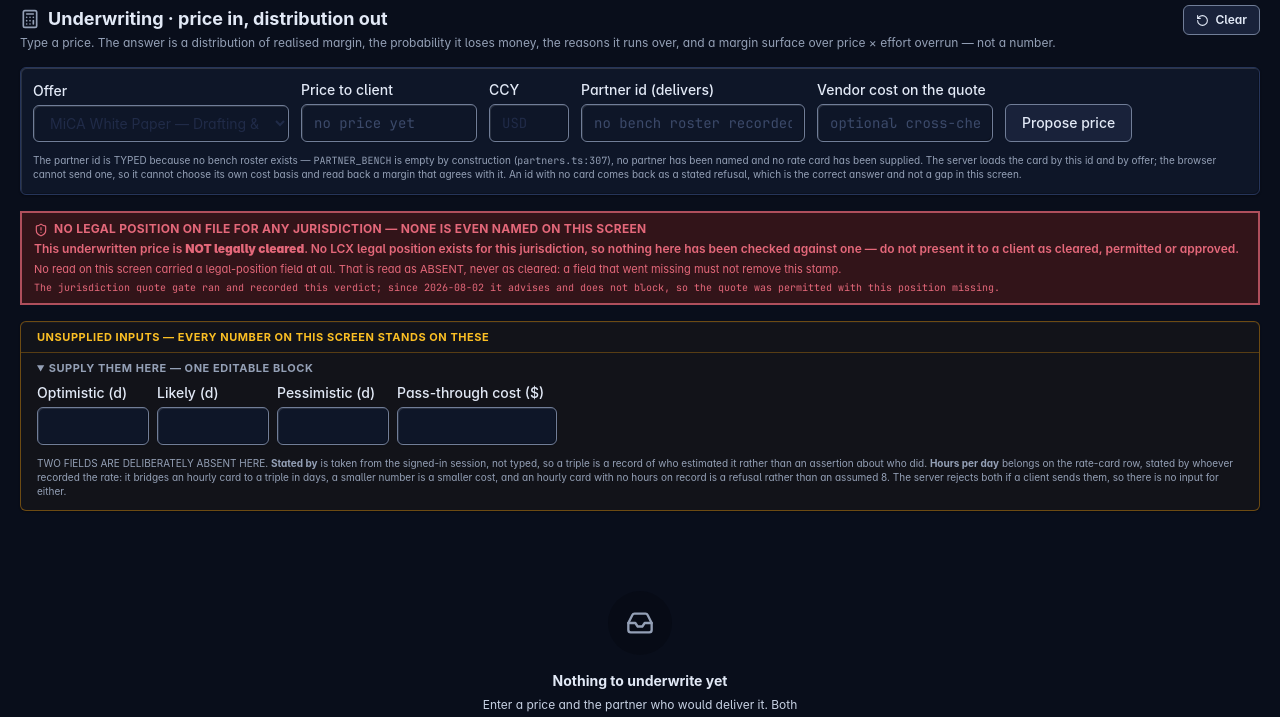
Test: the request body › sends none of the fields the route rejects as server facts
Type "10000" into the field with test id "price-input". click: coordinates (389, 123)
box: [301,104,477,142]
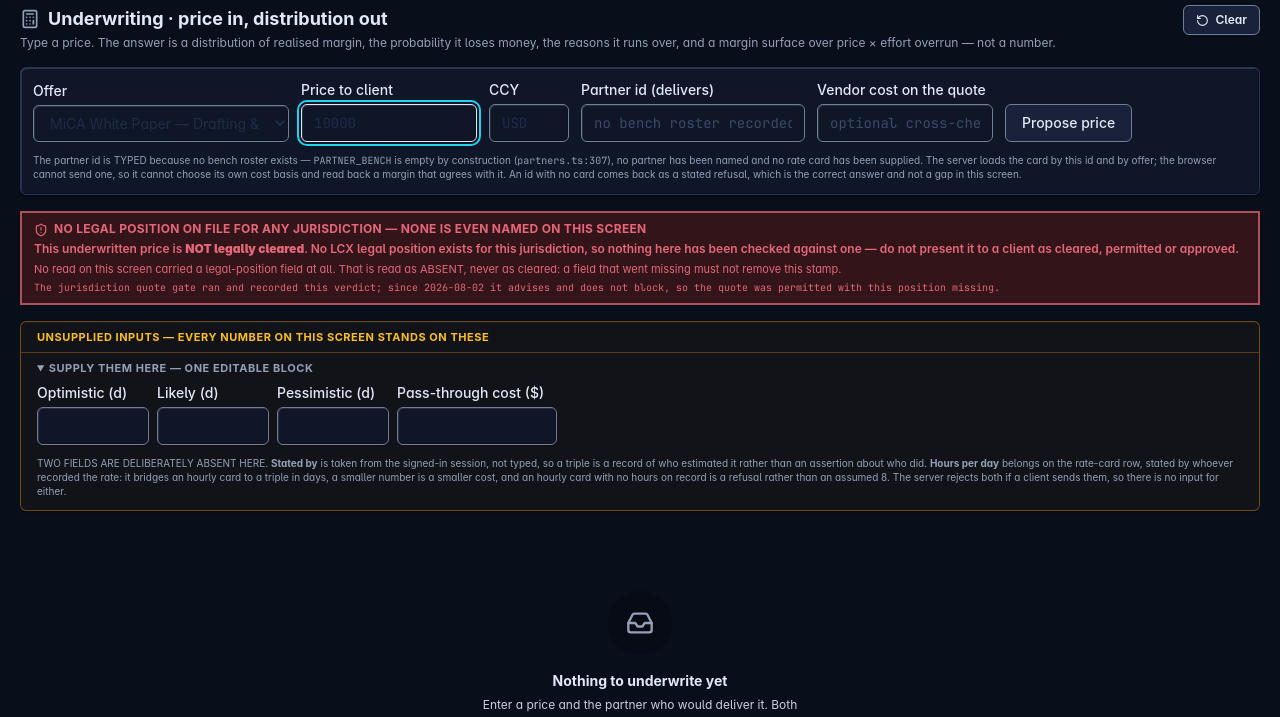
Type "partner-1" into the field with test id "partner-input". click: coordinates (693, 123)
box: [581,104,805,142]
(page scrolled)
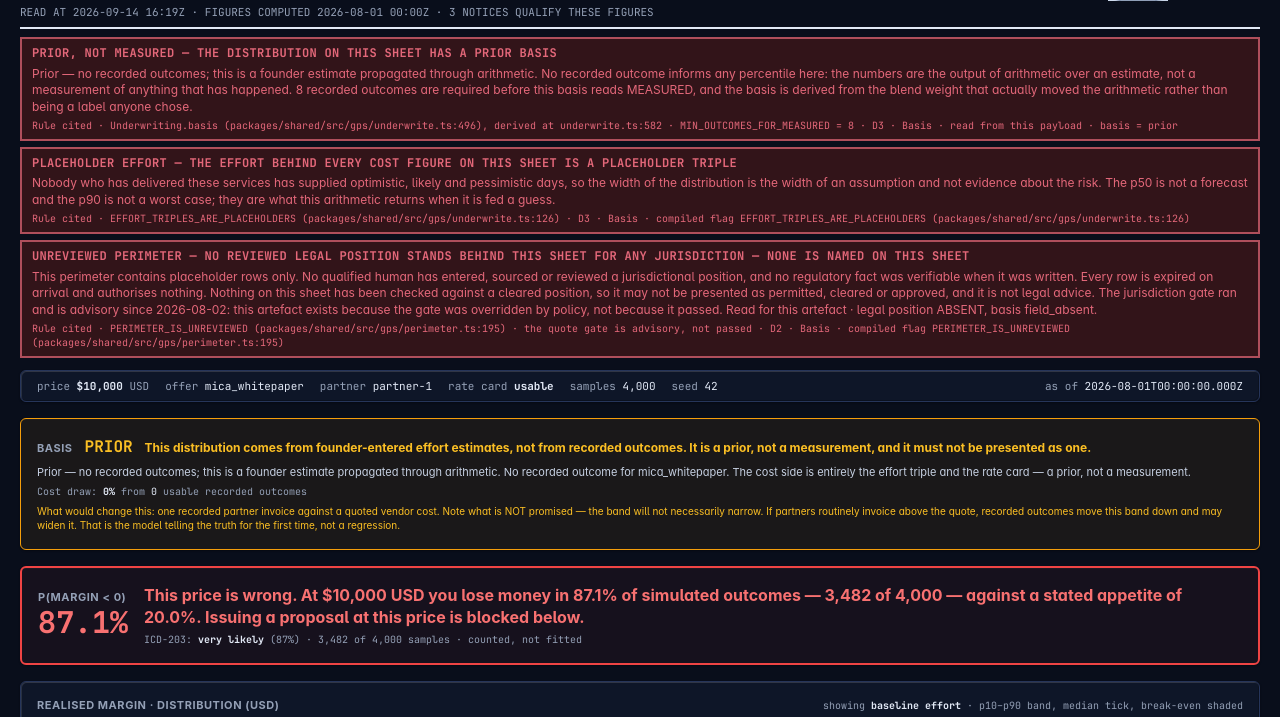
Now the text "partner-1" is shown, box [373,379,432,393]
